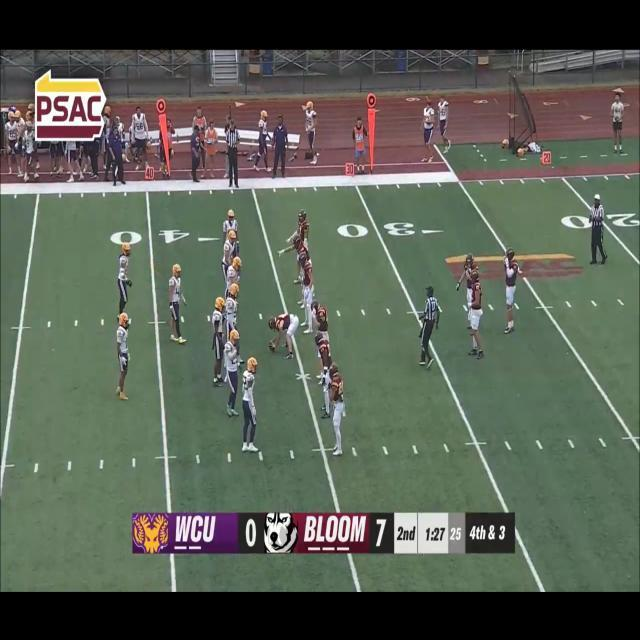football: (268, 338, 278, 355)
